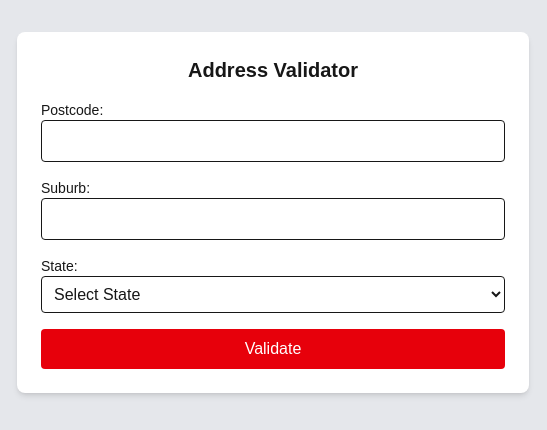
Test: ValidateForm Component › displays error when postcode does not match suburb
Type "2000" into the field labelled "Postcode:" at (273, 140), box [41,120,505,162]
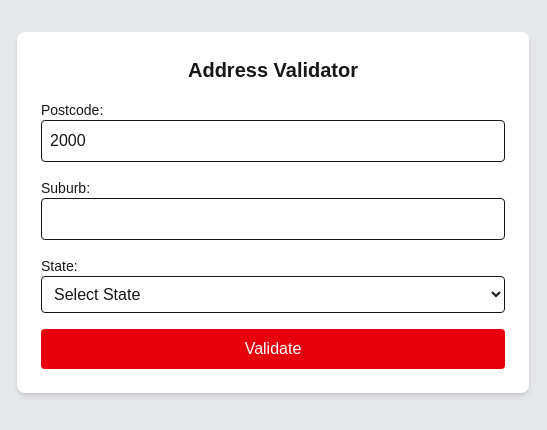
Type "Broadway" into the field labelled "Suburb:" at (273, 218), box [41,198,505,240]
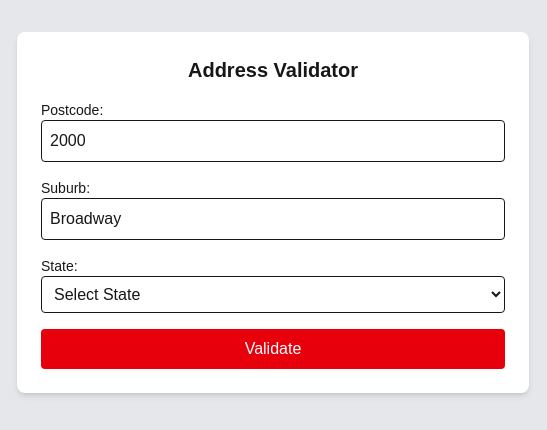
Select "NSW" in the dropdown labelled "State:" at (273, 294), box [41,276,505,312]
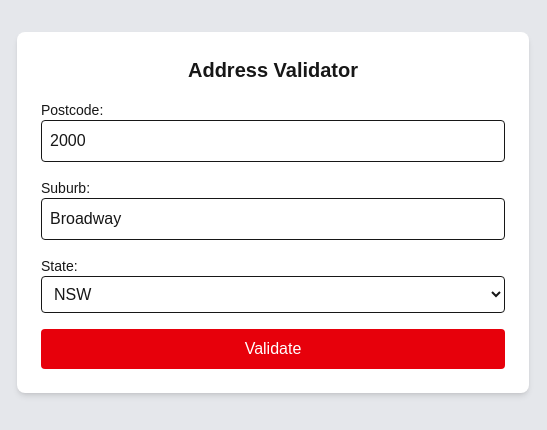
Submit the form from the button "Validate", box [41,328,505,368]
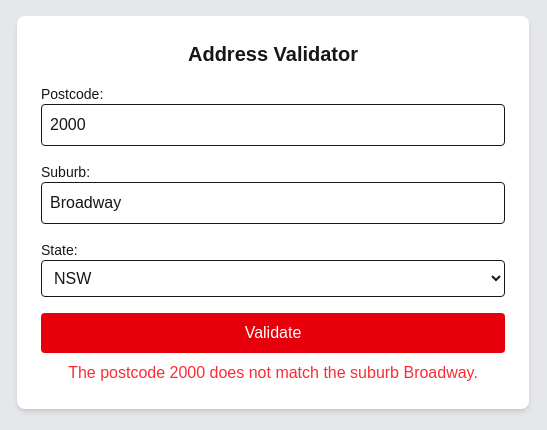
expect the text "The postcode 2000 does not match the suburb Broadway." is shown: met, box [41,360,505,384]
